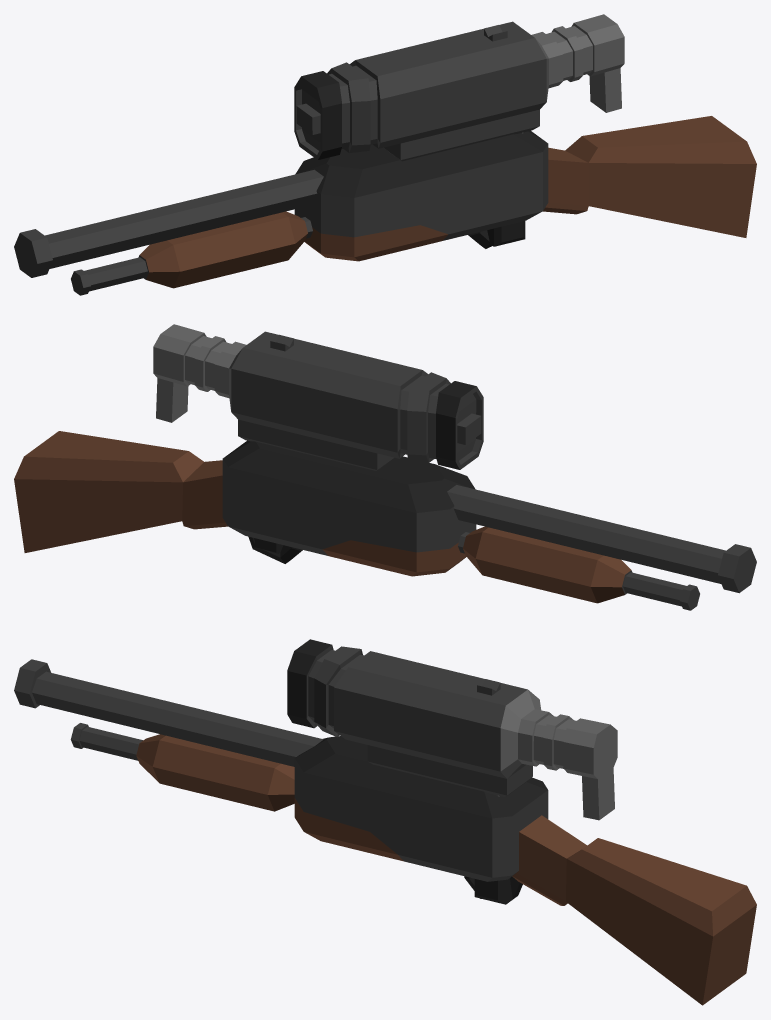
The model's file is guns.fbx.
3 views of the same model, one above another, from view 1: azimuth 30°, elevation 25°; view 2: azimuth 150°, elevation 25°; view 3: azimuth 330°, elevation 25° (orthographic).
Visible parts, largest first — view 1: ShotGun, smg; view 2: ShotGun, smg; view 3: ShotGun, smg.
Part boxes in pixels (x1=…): ShotGun: x1=14, y1=116, x2=756, y2=295; smg: x1=294, y1=14, x2=624, y2=246; ShotGun: x1=14, y1=431, x2=756, y2=610; smg: x1=153, y1=324, x2=483, y2=553; ShotGun: x1=14, y1=659, x2=756, y2=1005; smg: x1=287, y1=639, x2=617, y2=904.
Size of the model in its own units: 1276 by 433 by 158.
